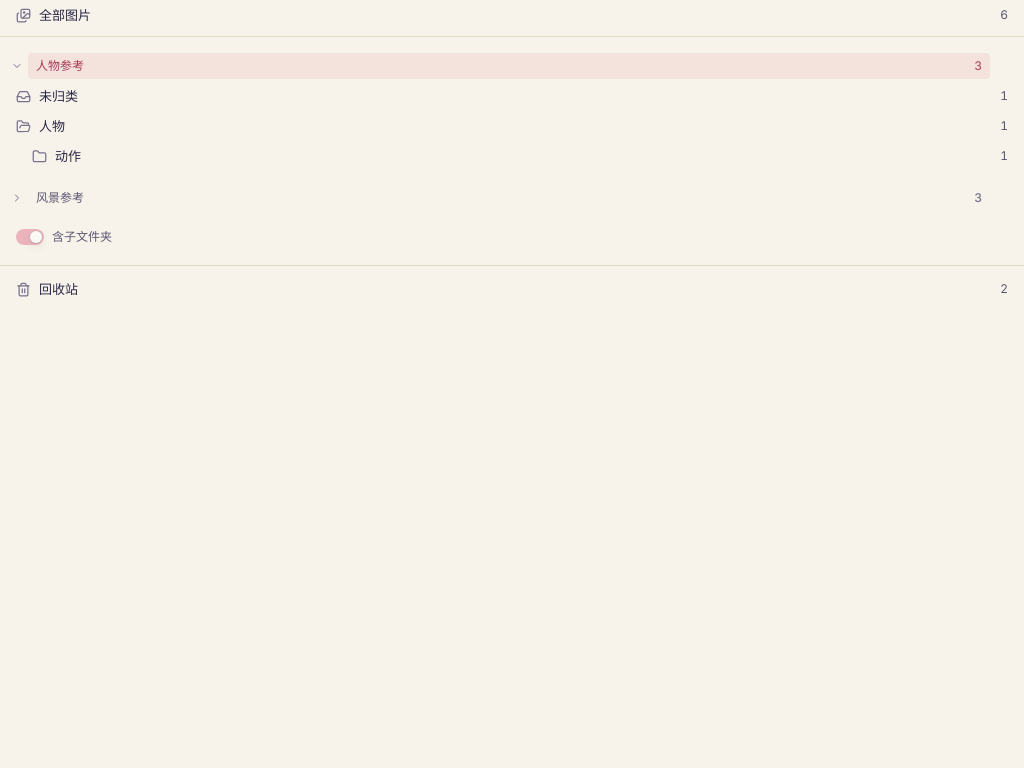
Test case: 回收站：清空回收站先列出将永久删除的张数，确认后按预览的令牌删除
Right-click the button with aria-label "回收站（人物参考，2 张）" at (59, 289), box [8, 274, 1016, 304]
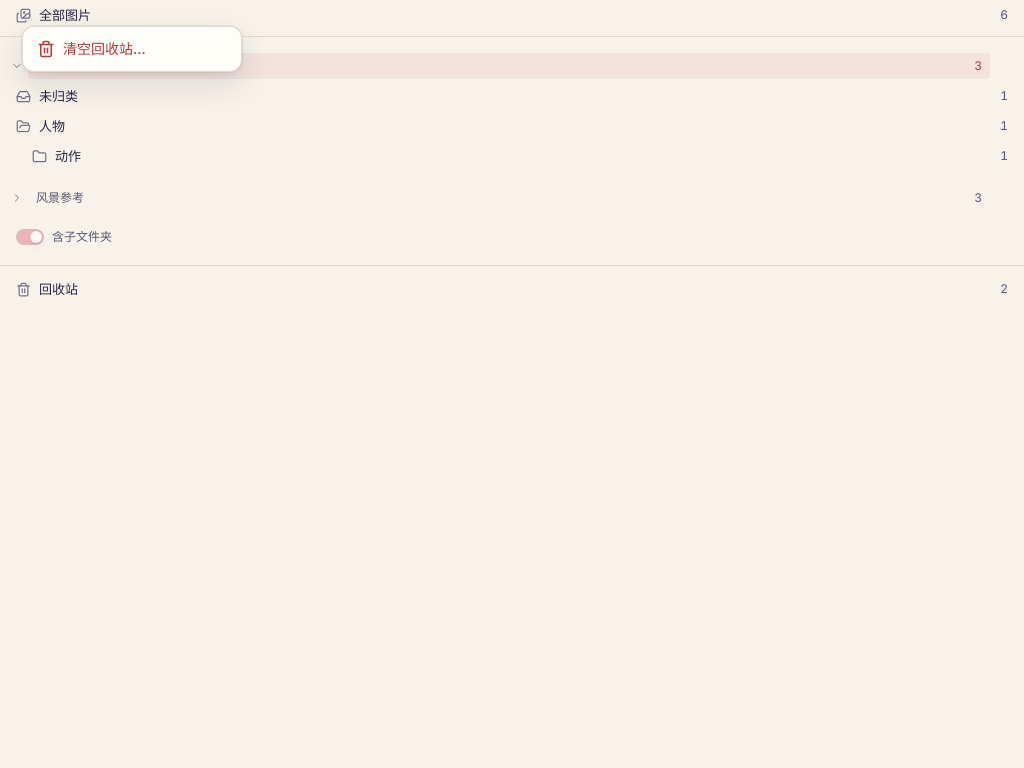
Click the menu item "清空回收站…". click: (91, 49)
box: [37, 40, 146, 58]
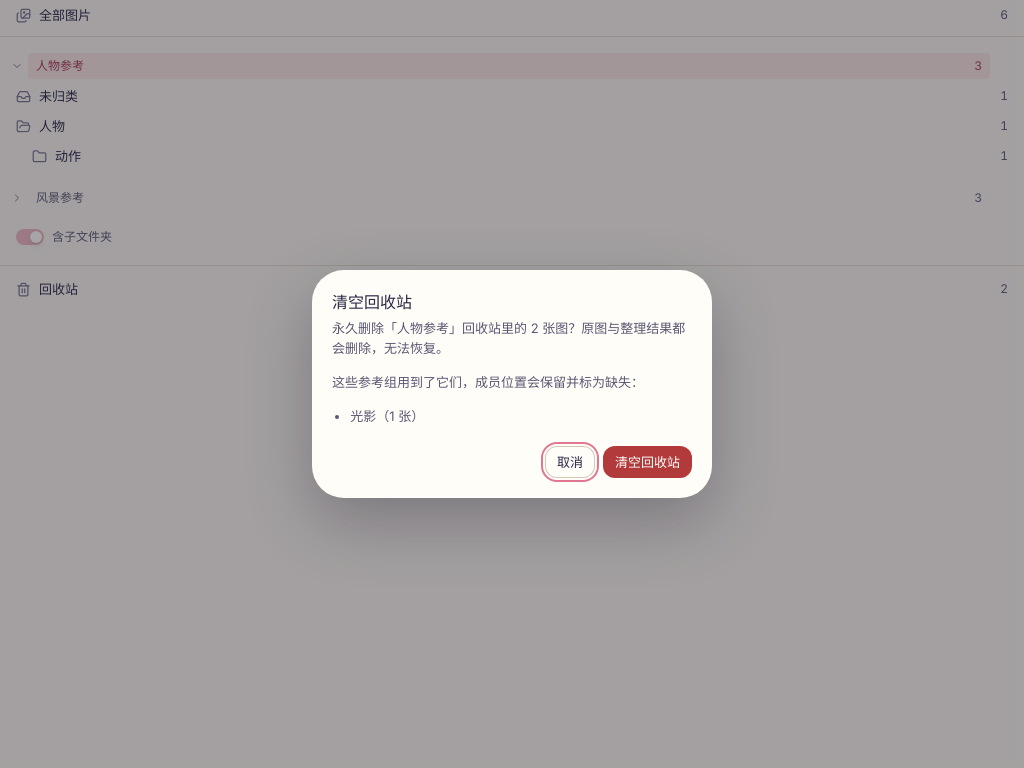
expect the dialog "清空回收站" shows "永久删除「人物参考」回收站里的 2 张图？": met, box [332, 320, 685, 356]
expect the list named "受影响的参考组" reads "光影（1 张）": met, box [350, 408, 424, 424]
Click the button "清空回收站". click: (648, 462)
box: [603, 446, 692, 478]
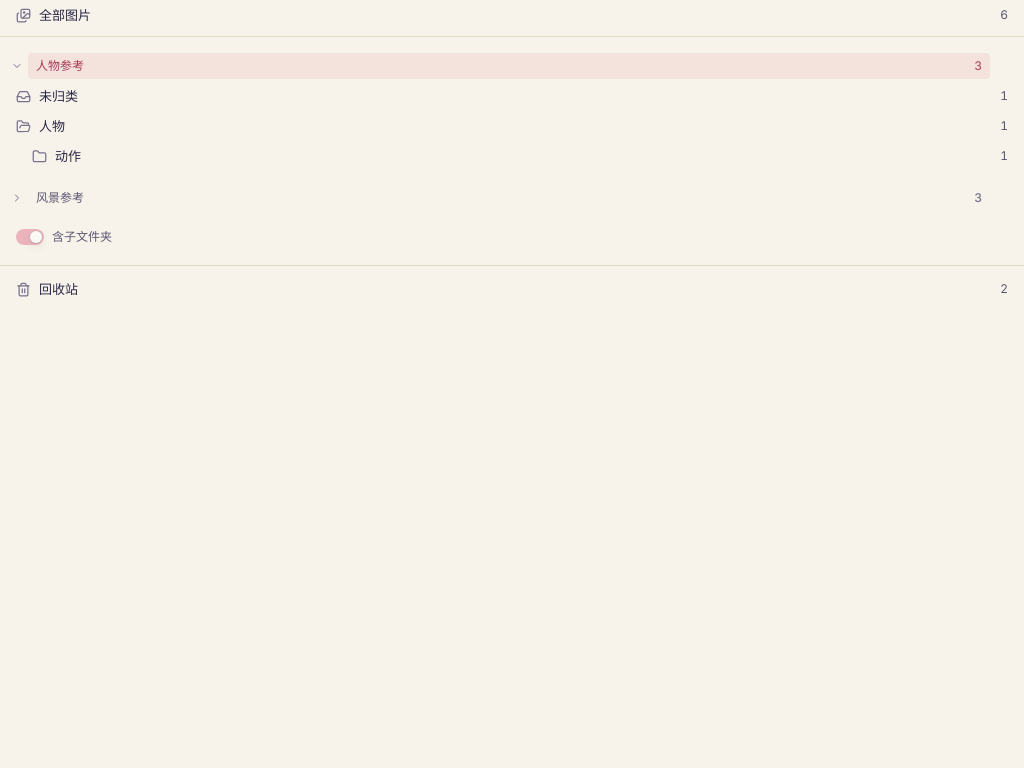
expect the dialog is gone: met
